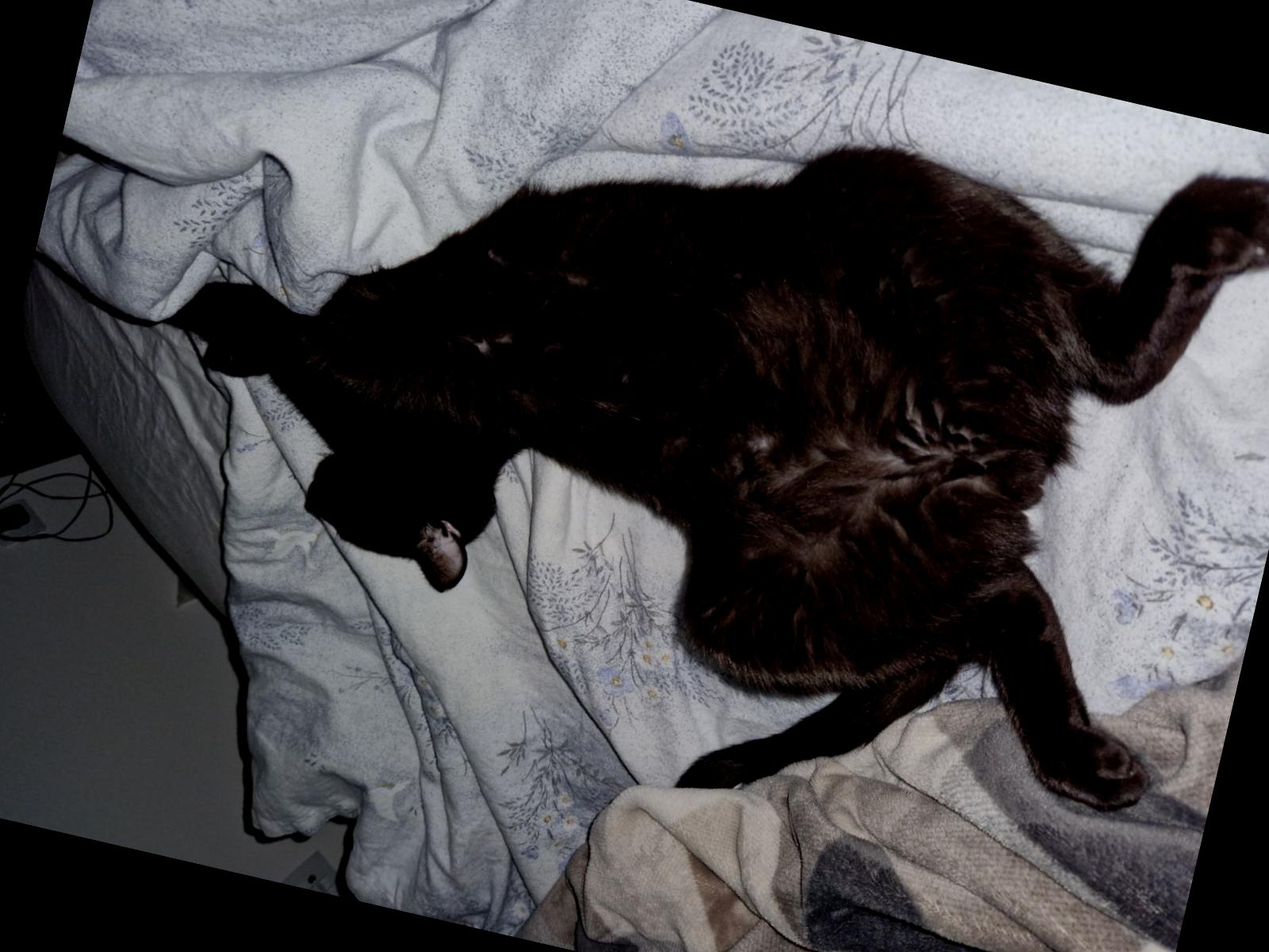macka: (7, 0, 1269, 911)
